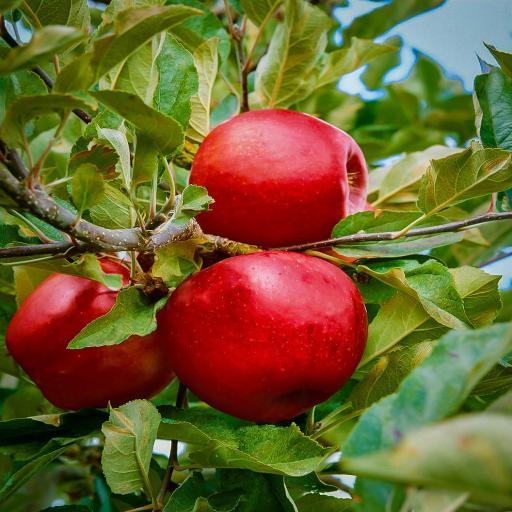apple: (159, 252, 367, 422), (190, 110, 367, 247), (7, 274, 174, 410)
